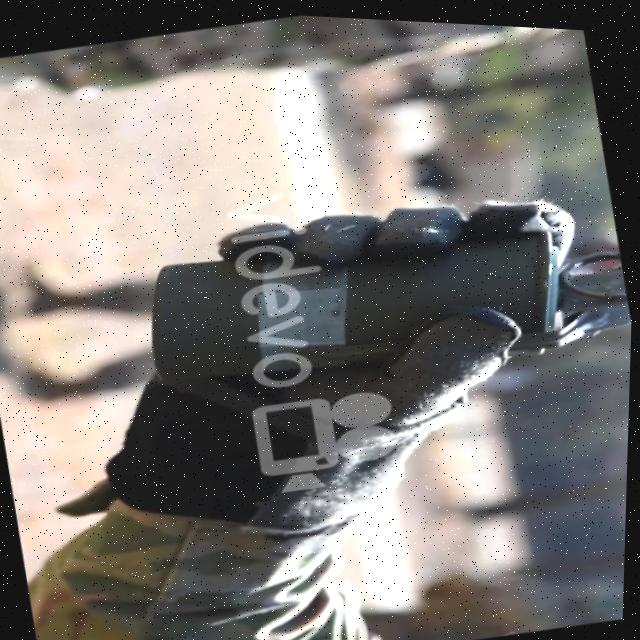grenade: (138, 167, 636, 418)
